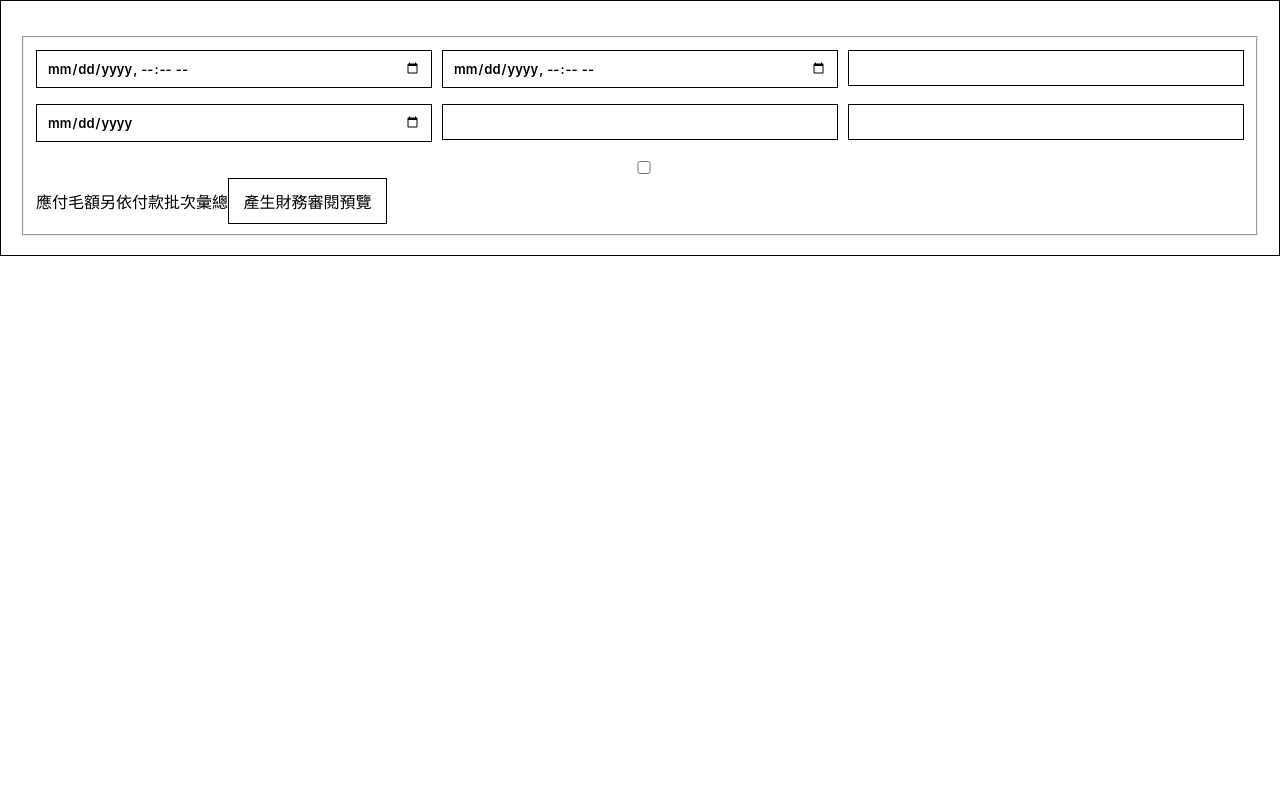
Compensation projection approval › removes approval controls when a reviewed dimension changes
Type "2026-09-10T00:00" into the 1st field at (234, 69), box [36,50,432,88]
Type "2026-09-25T00:00" into the 2nd field at (640, 69), box [442,50,838,88]
Type "R1.0B" into the 3rd field at (1046, 68), box [848,50,1244,86]
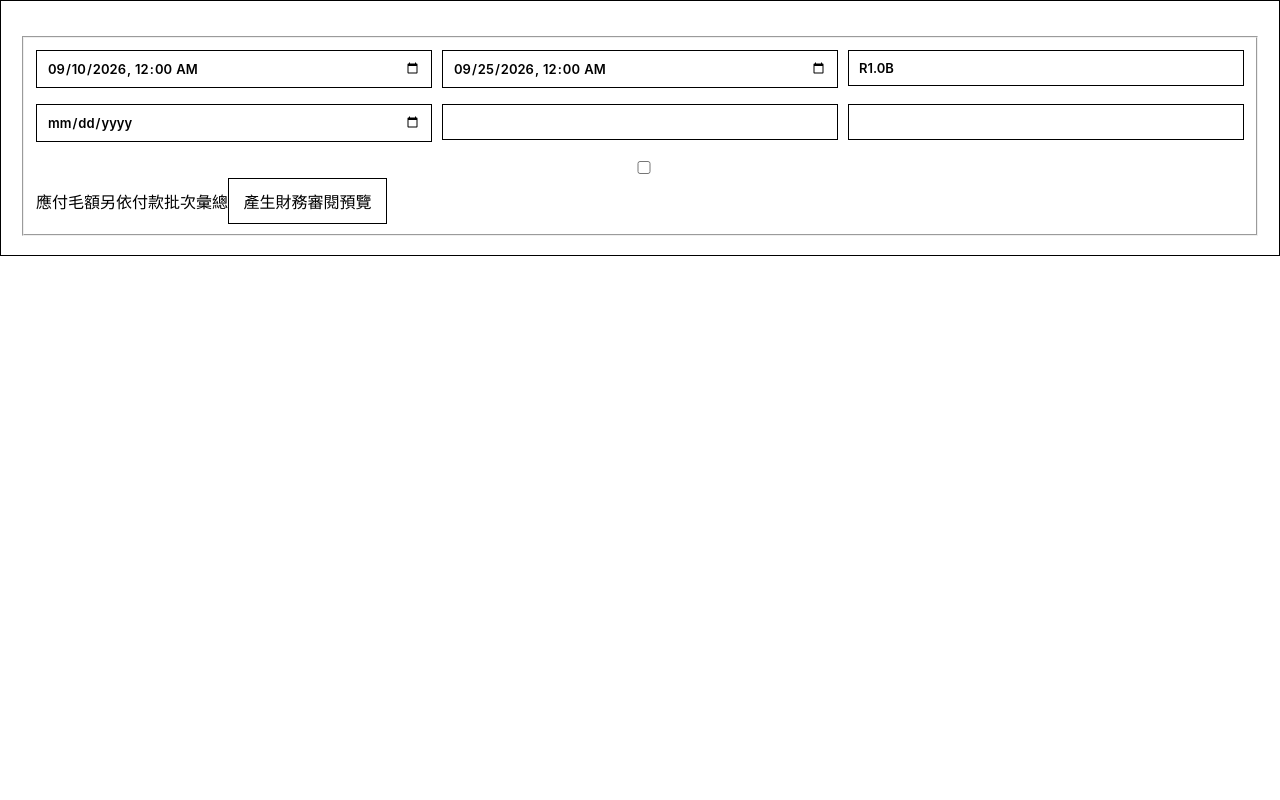
Type "2026-09-26" into the date field at (234, 123), box [36,104,432,142]
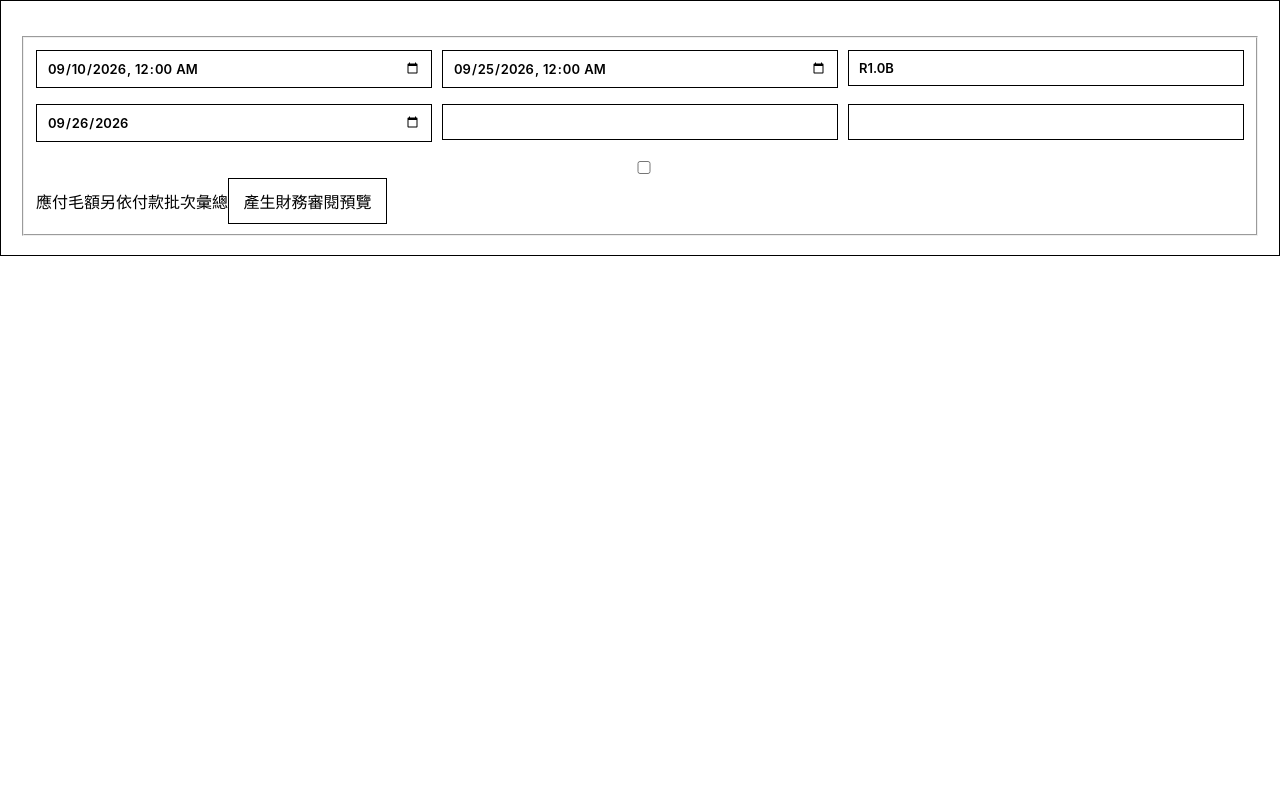
Type "TWD" into the 4th field at (640, 122), box [442,104,838,140]
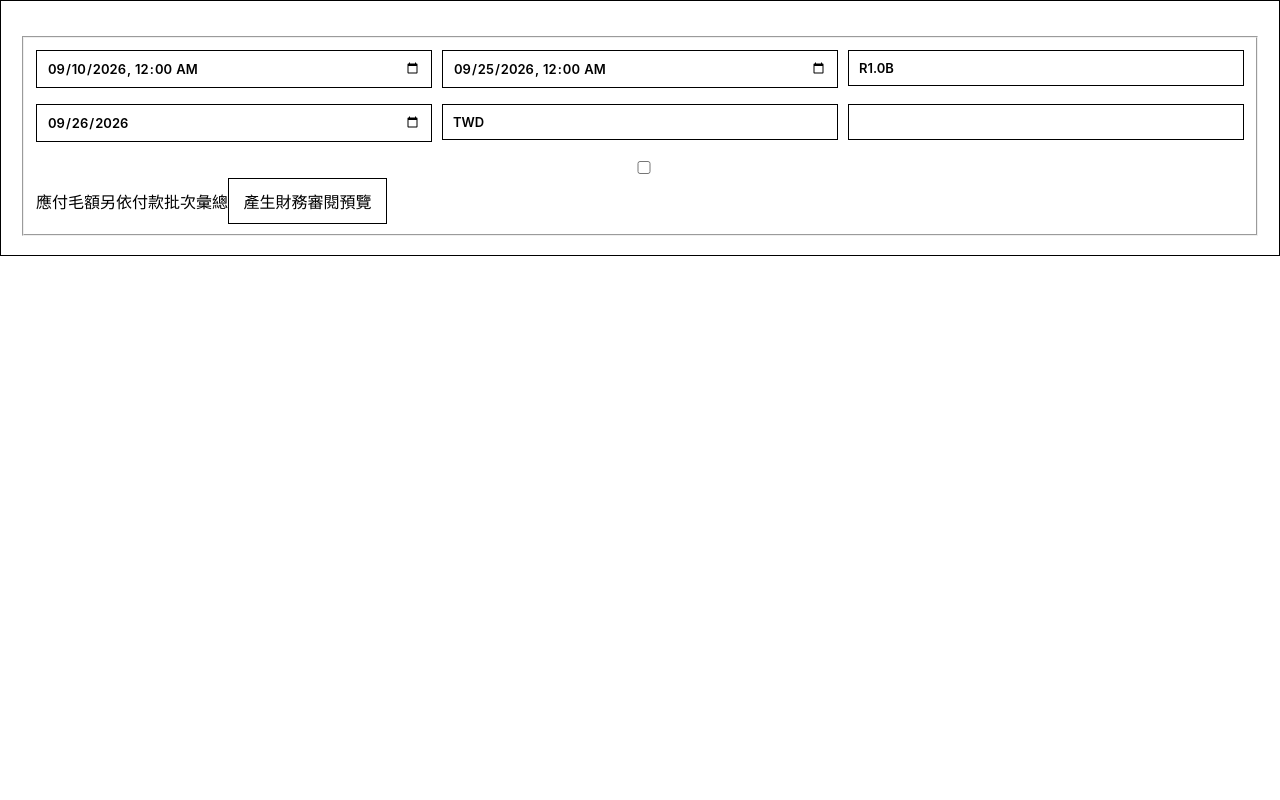
Type "FINANCE-TWD" into the 5th field at (1046, 122), box [848,104,1244,140]
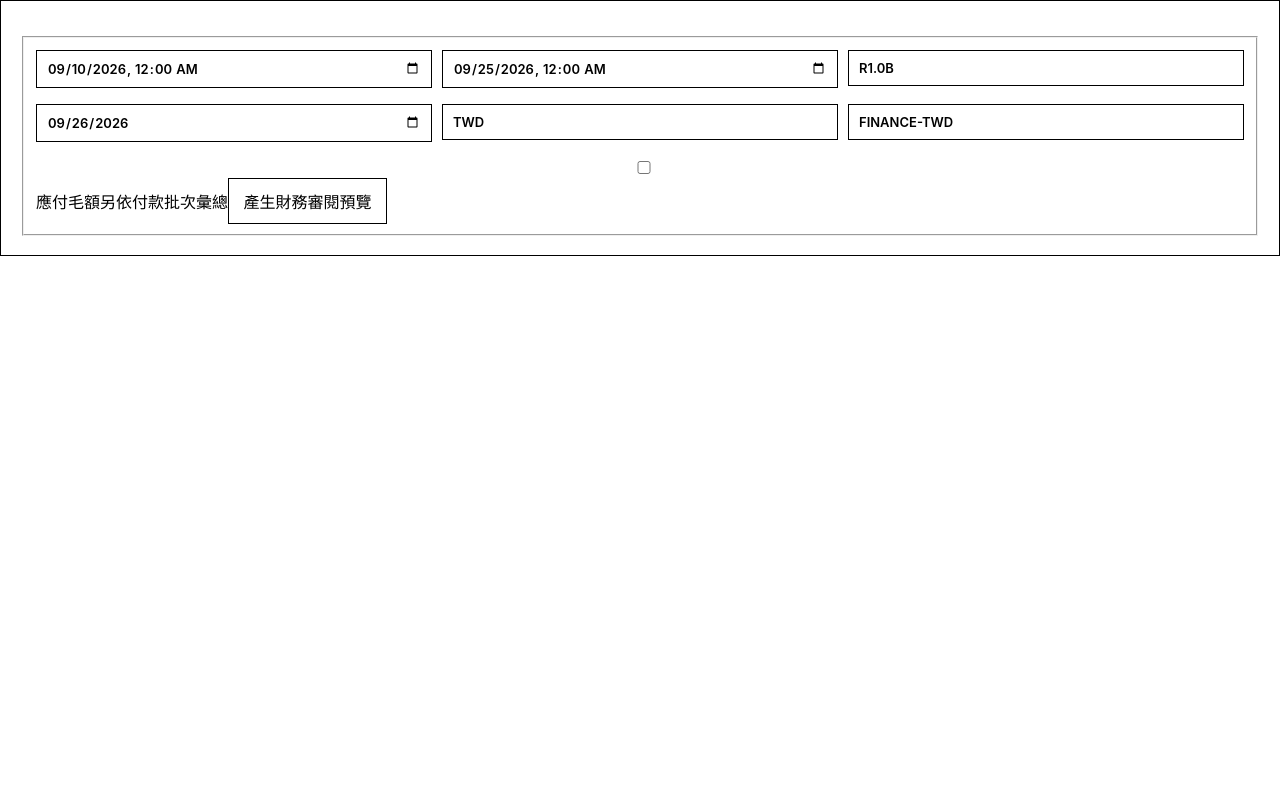
Submit the form, box [20,36,1260,236]
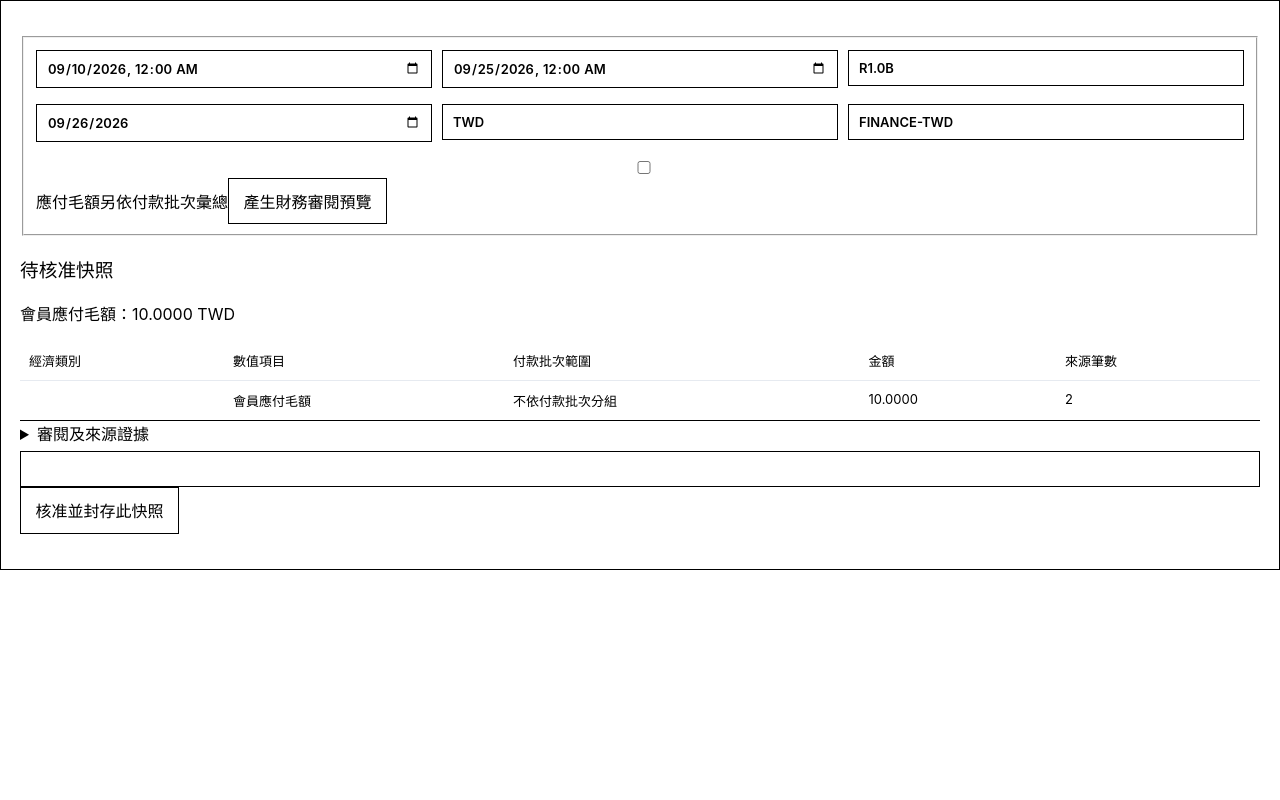
Now the number of forms is 2, box [20,36,1260,236]; [20,445,1260,534]
Click the checkbox labelled "應付毛額另依付款批次彙總" at (644, 167), box [40,161,1248,174]
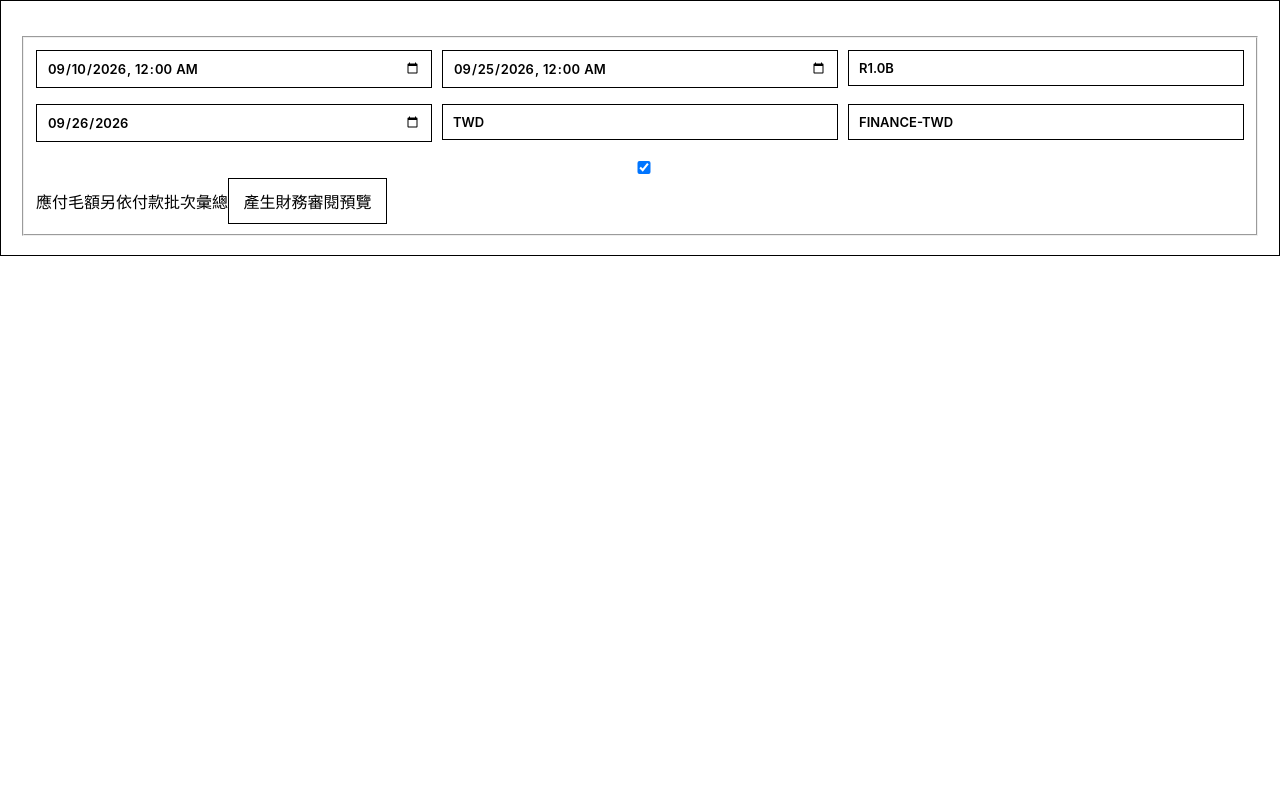
Now the number of forms is 1, box [20,36,1260,236]
